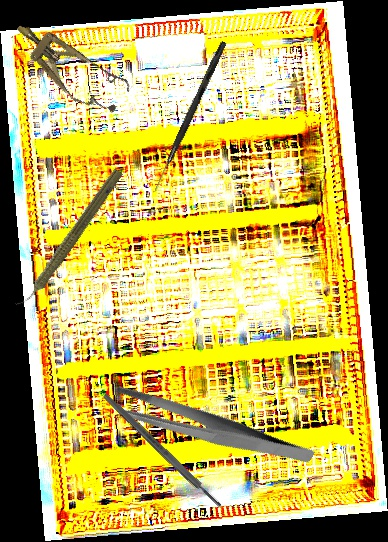Dressing Forceps: (107, 345, 316, 512)
Handpiece: (12, 164, 126, 314)
Hook Surgical: (152, 40, 227, 194)
Scalpel Handle: (100, 390, 225, 511)
Speculum: (3, 7, 135, 124)
